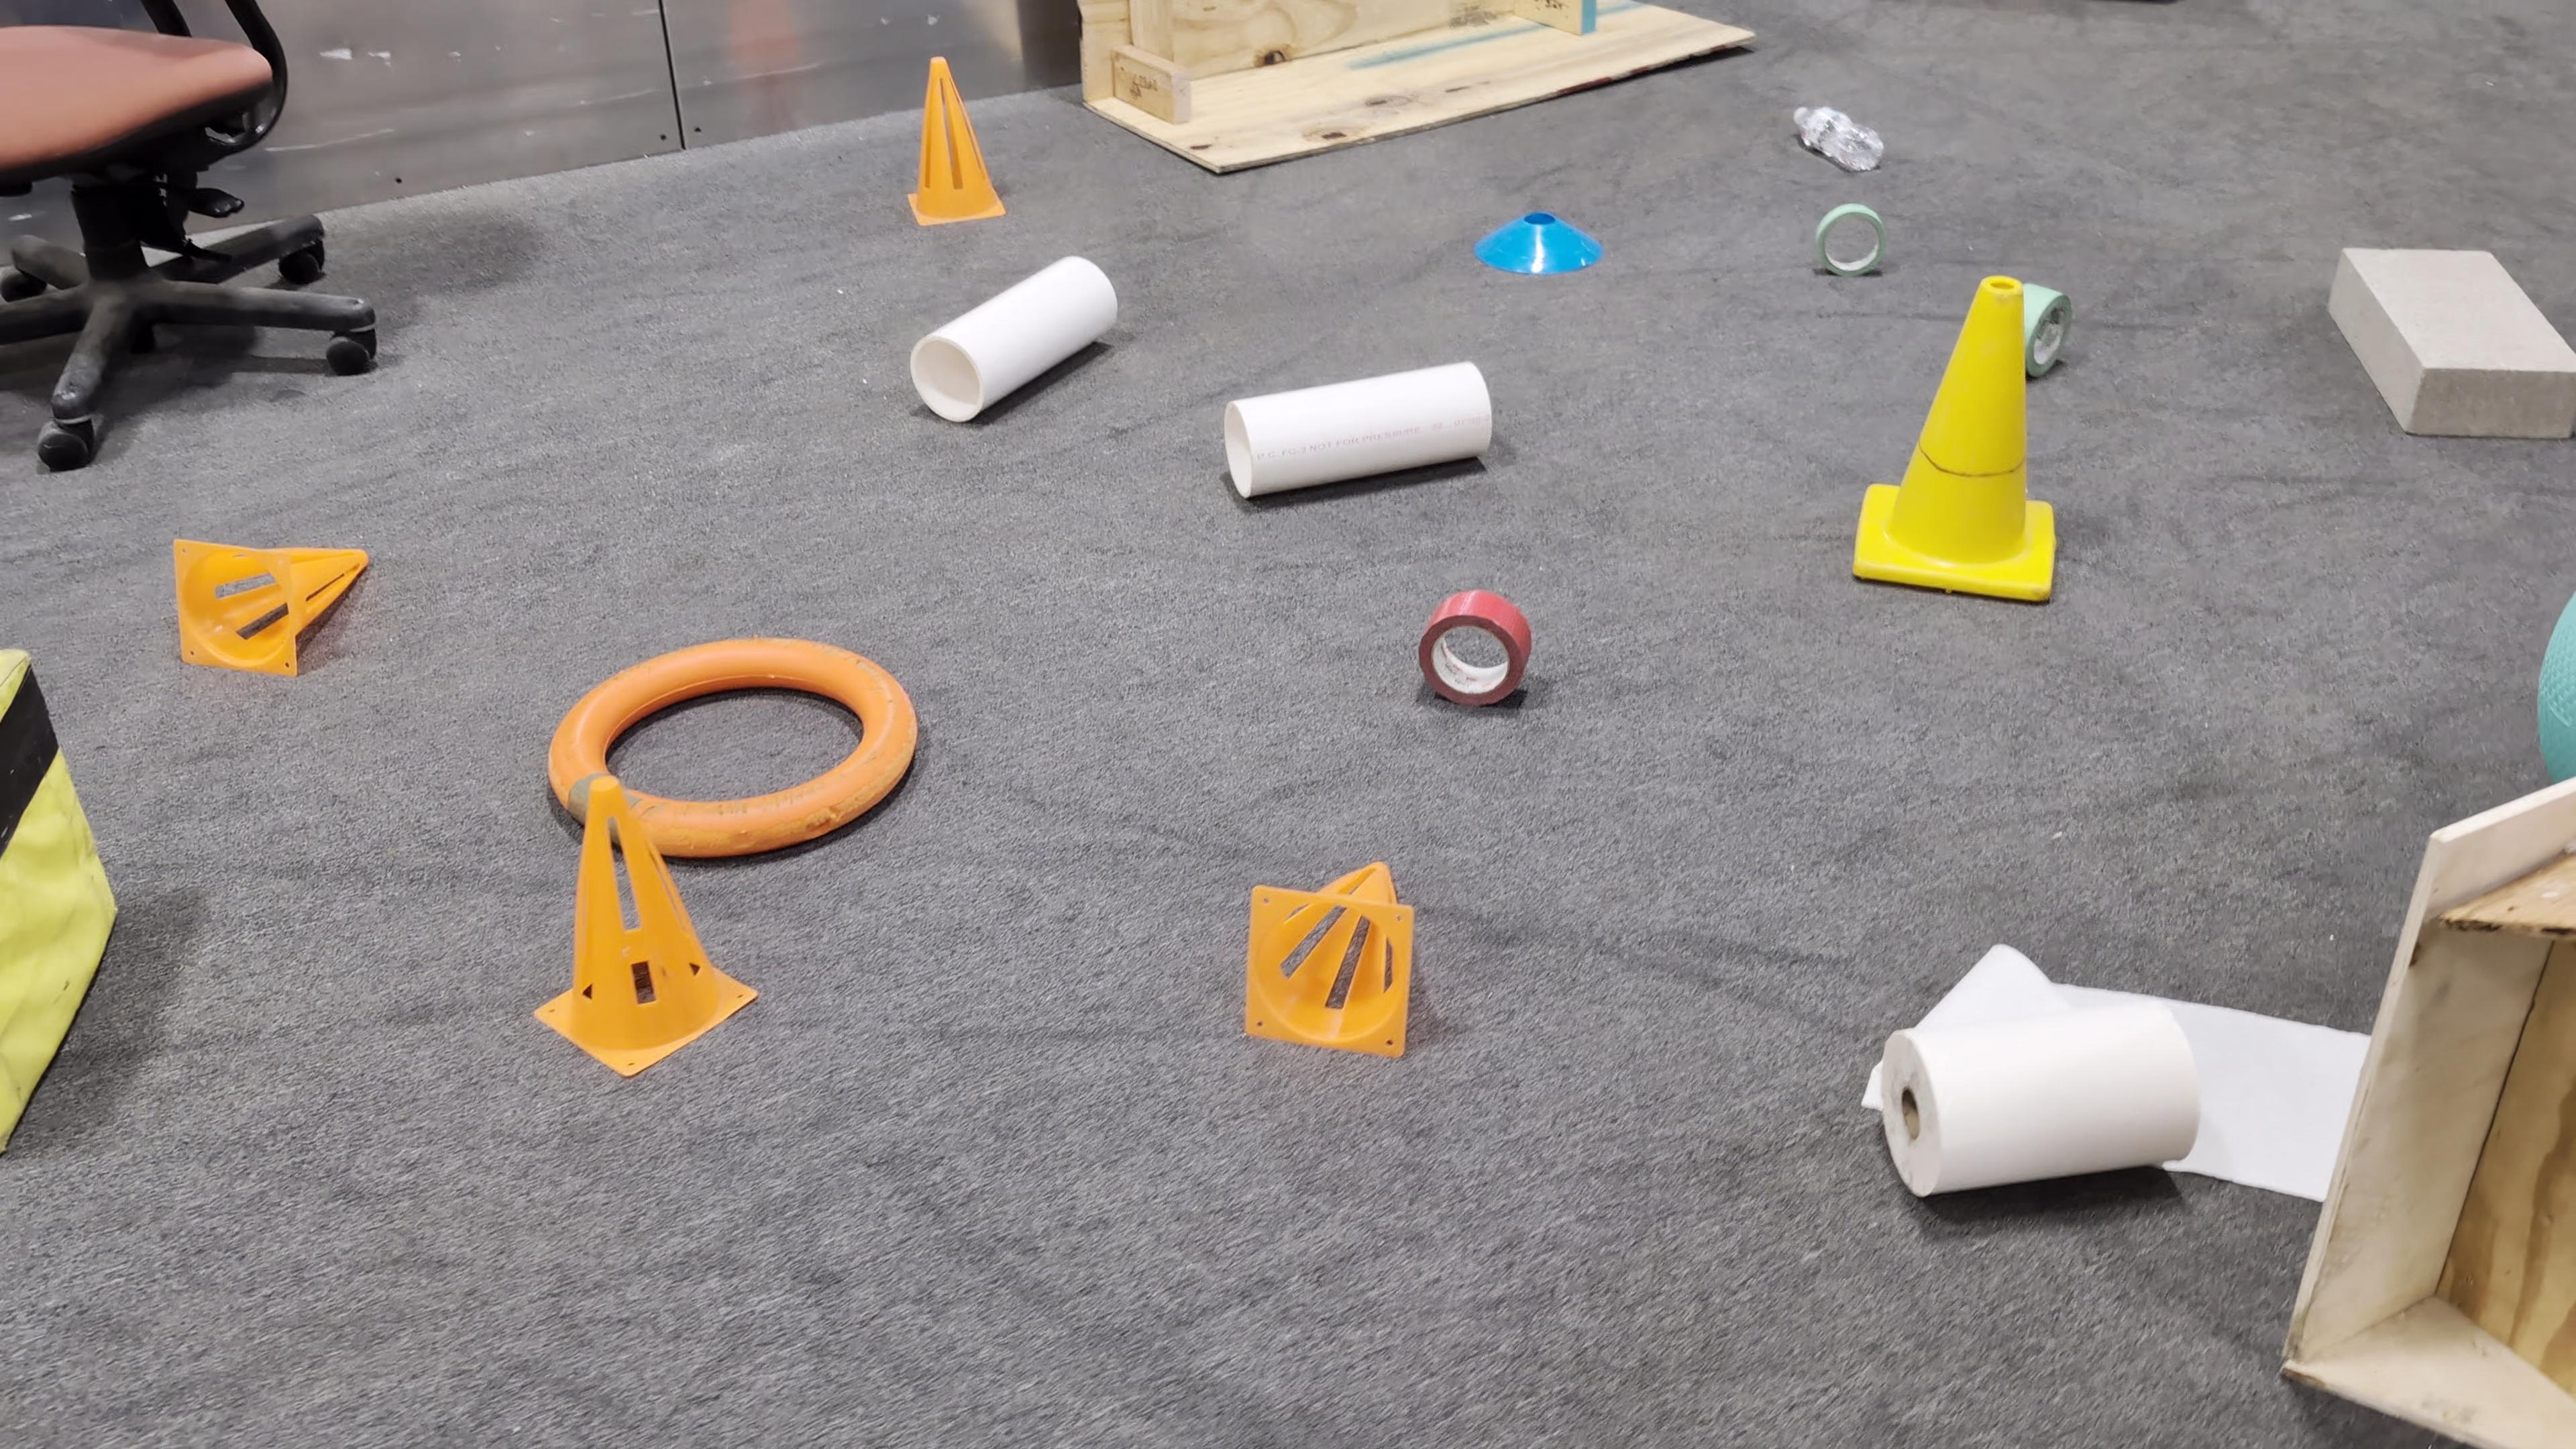coral: (1219, 357, 1493, 502), (909, 248, 1120, 423)
